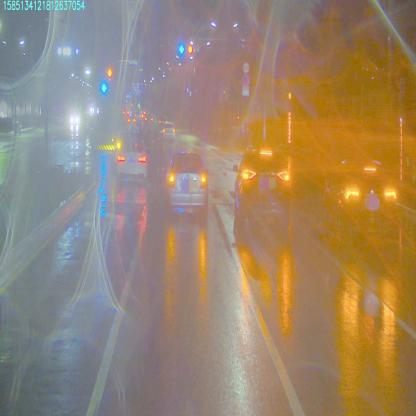traffic-light: (178, 41, 185, 57), (188, 44, 193, 54)
